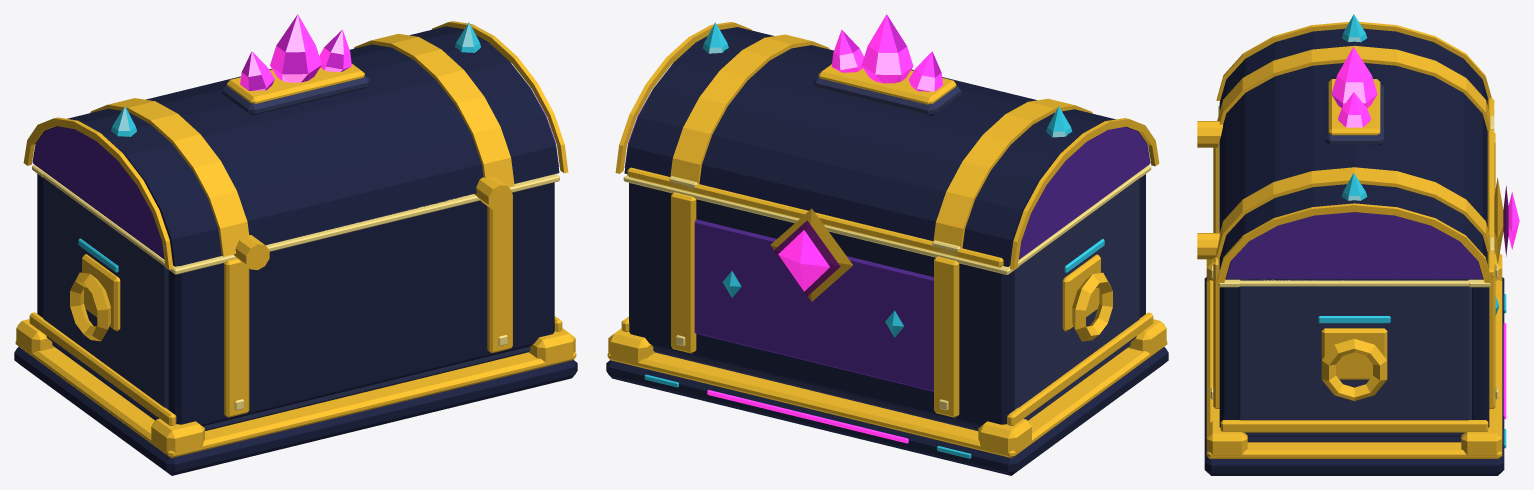
The model's file is GemChest.glb.
The picture shows the model from 3 angles, left to right: view 1: azimuth 30°, elevation 25°; view 2: azimuth 150°, elevation 25°; view 3: azimuth 270°, elevation 25°; orthographic projection. The views are drawn at different scales.
Parts seen in each view (by area): view 1: ChestBody, ChestLid, LidGlow; view 2: ChestBody, ChestLid, LidGlow, ChestGlow; view 3: ChestLid, ChestBody, LidGlow, ChestGlow.
Part boxes in pixels (bbox=[...]): ChestBody: bbox=[14, 165, 577, 475]; ChestLid: bbox=[23, 21, 568, 270]; LidGlow: bbox=[240, 14, 351, 90]; ChestBody: bbox=[606, 165, 1168, 475]; ChestLid: bbox=[615, 22, 1159, 269]; LidGlow: bbox=[831, 14, 943, 91]; ChestGlow: bbox=[707, 230, 908, 443]; ChestLid: bbox=[1197, 14, 1494, 282]; ChestBody: bbox=[1204, 106, 1508, 475]; LidGlow: bbox=[1331, 46, 1377, 127]; ChestGlow: bbox=[1503, 192, 1519, 419].
Size of the model in its own units: 9.28 by 7.47 by 6.46.
Materials: 2 (2 with a texture image).
